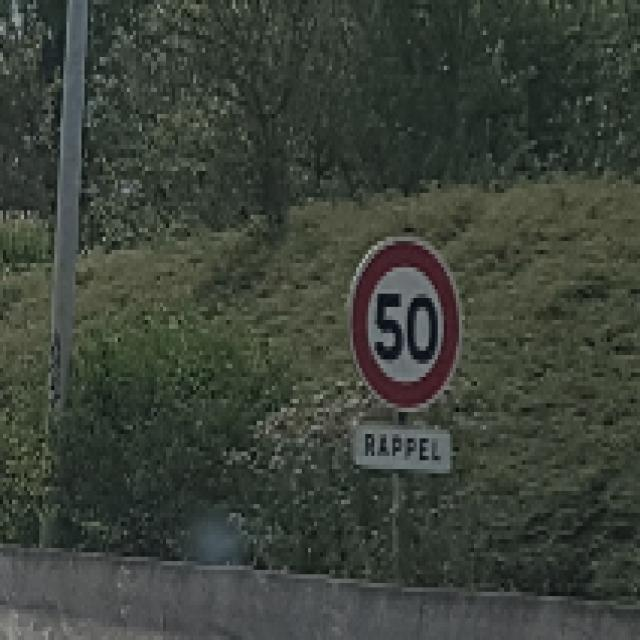speed_50: (346, 230, 464, 414)
